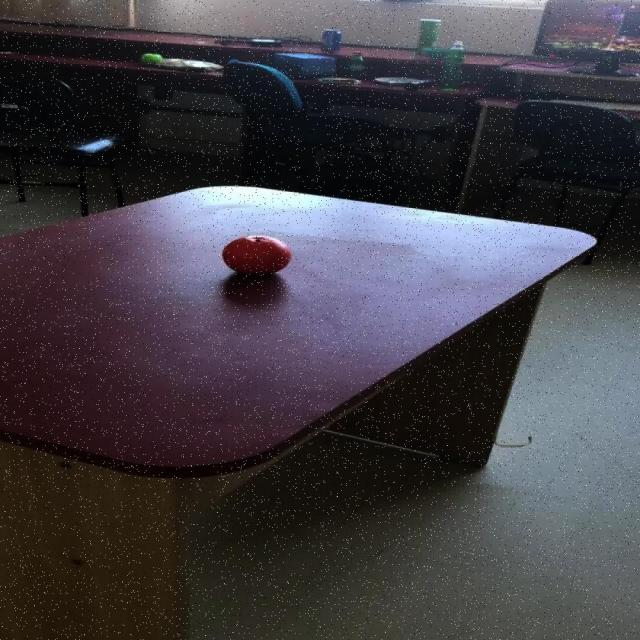Orange: (222, 234, 293, 275), (141, 52, 164, 65)
